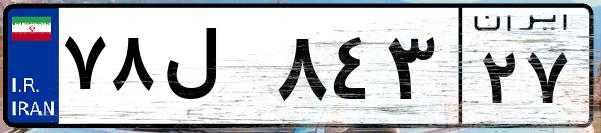2: (475, 38, 525, 113)
3: (385, 28, 445, 110)
4: (330, 28, 385, 110)
7: (57, 26, 110, 100), (525, 38, 570, 115)
8: (270, 28, 330, 110), (110, 28, 158, 98)
ل: (158, 20, 270, 120)
